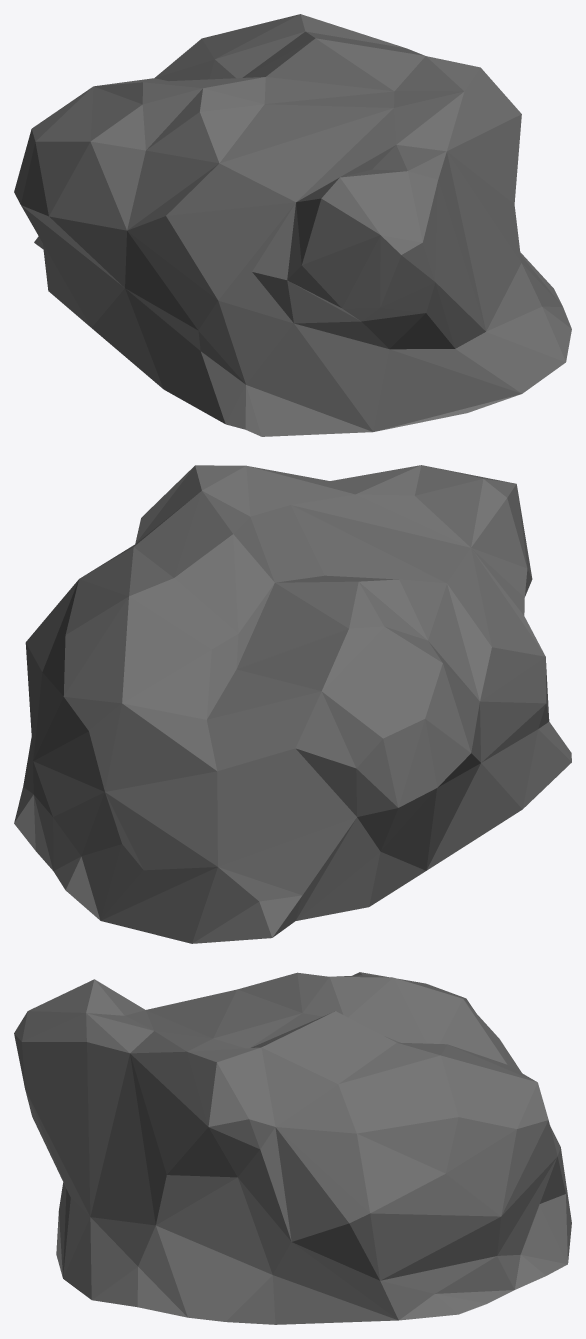
The model's file is stoun_4.fbx.
The picture shows the model from 3 angles, top to bottom: view 1: azimuth 30°, elevation 25°; view 2: azimuth 150°, elevation 25°; view 3: azimuth 270°, elevation 25°; orthographic projection. The views are drawn at different scales.
Visible parts, largest first — view 1: Object.004; view 2: Object.004; view 3: Object.004.
Boxes of the visible parts, x1,y1,x2,y2 form: Object.004: [14, 14, 571, 436]; Object.004: [14, 465, 571, 943]; Object.004: [14, 972, 571, 1324].
Size of the model in its own units: 504 by 309 by 617.
